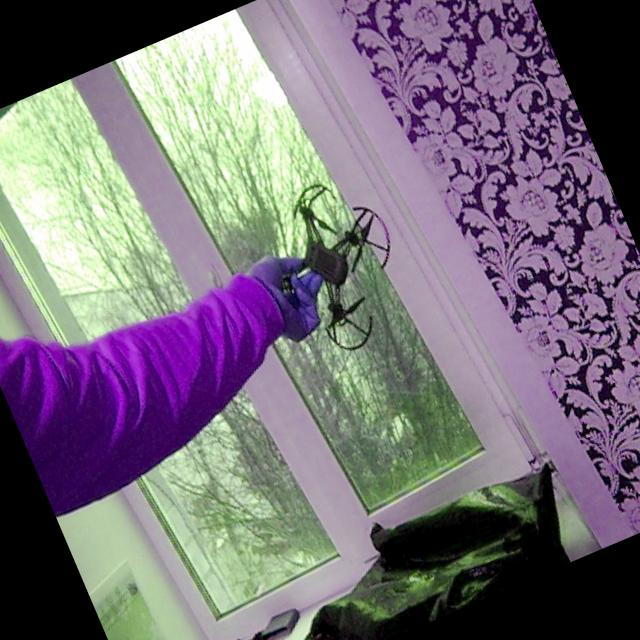drone: (238, 153, 436, 377)
